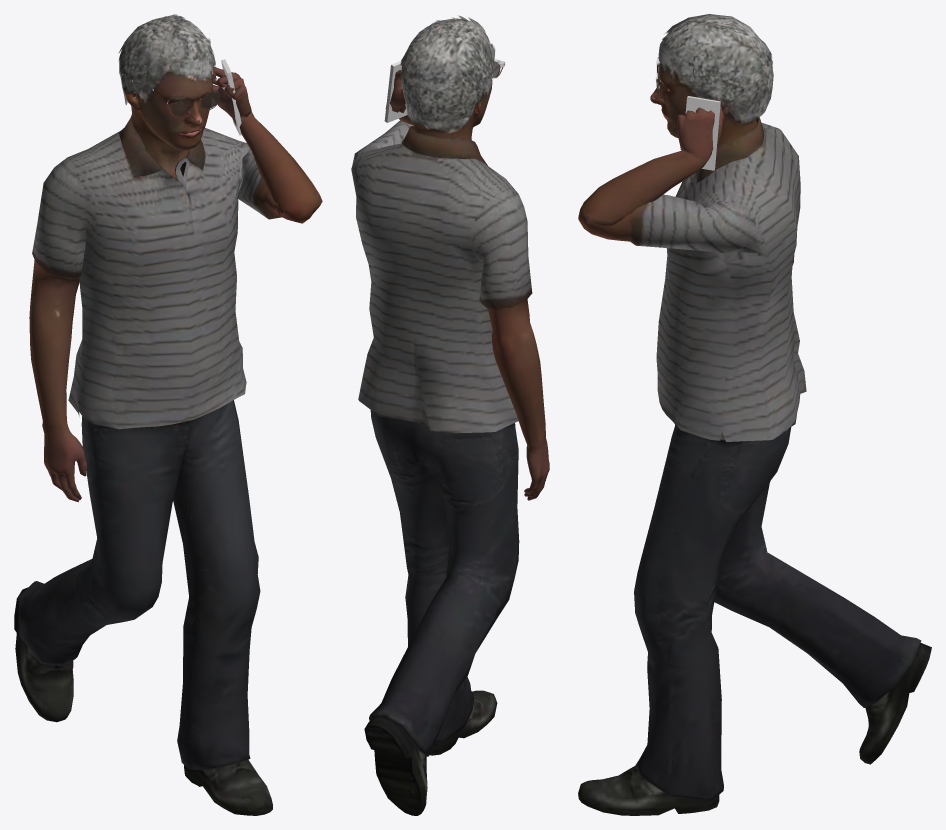
3 views of the same model, side by side, from view 1: azimuth 30°, elevation 25°; view 2: azimuth 150°, elevation 25°; view 3: azimuth 270°, elevation 25° (orthographic). The views are drawn at different scales.
Parts seen in each view (by area): view 1: p03536; view 2: p03536; view 3: p03536.
Boxes of the visible parts, x1=… form: p03536: x1=14, y1=14, x2=322, y2=815; p03536: x1=351, y1=16, x2=549, y2=815; p03536: x1=578, y1=14, x2=931, y2=815.
Size of the model in its own units: 0.5214 by 1.8 by 0.7482.
Materials: 1 (1 with a texture image).
